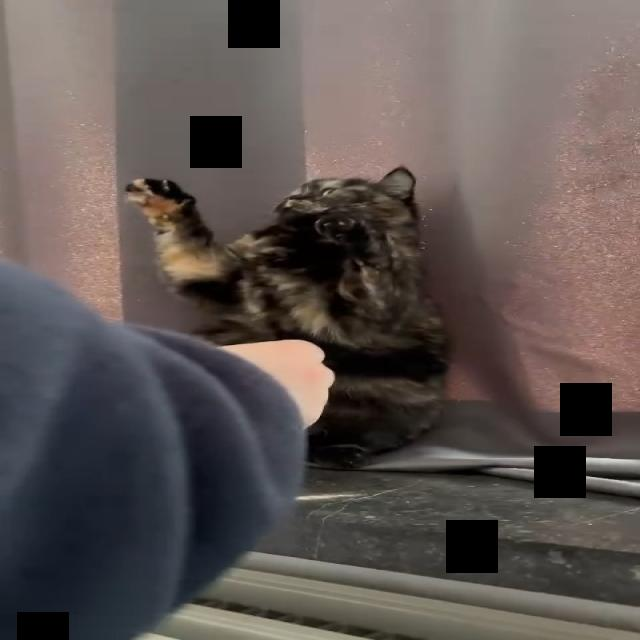authorized: (123, 165, 452, 466)
